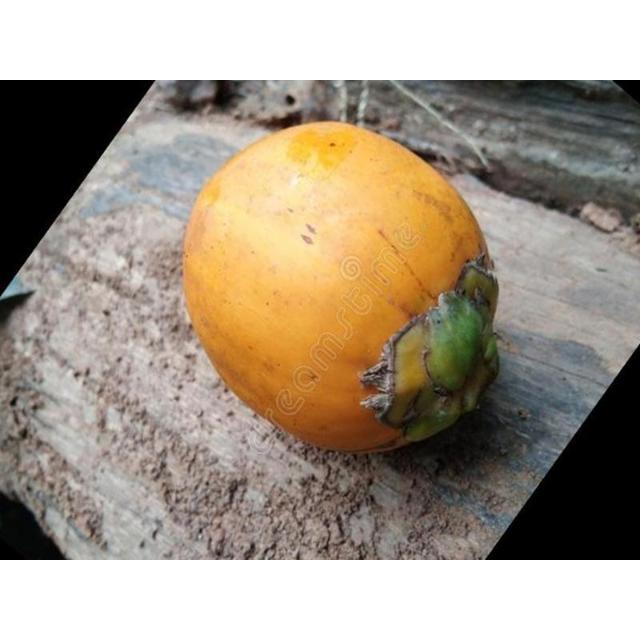good: (181, 122, 502, 455)
